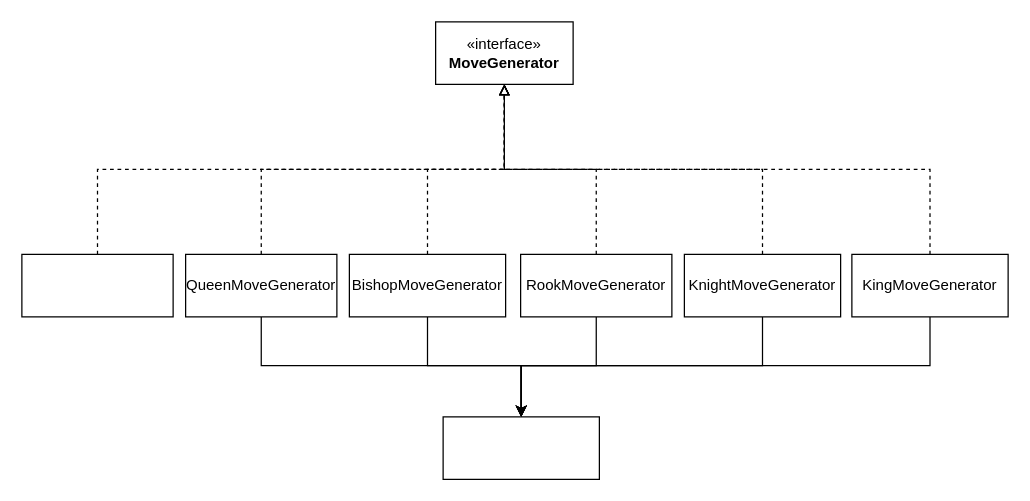
This 1030x501 diagram has some shape labels left out. The shapes that lost their labels are listed below. From the top down, each one's centre as x and y in pixels, then its label:
At pixel 97 285: "PawnMoveGenerator".
At pixel 520 447: "MoveGeneratorHelper".
